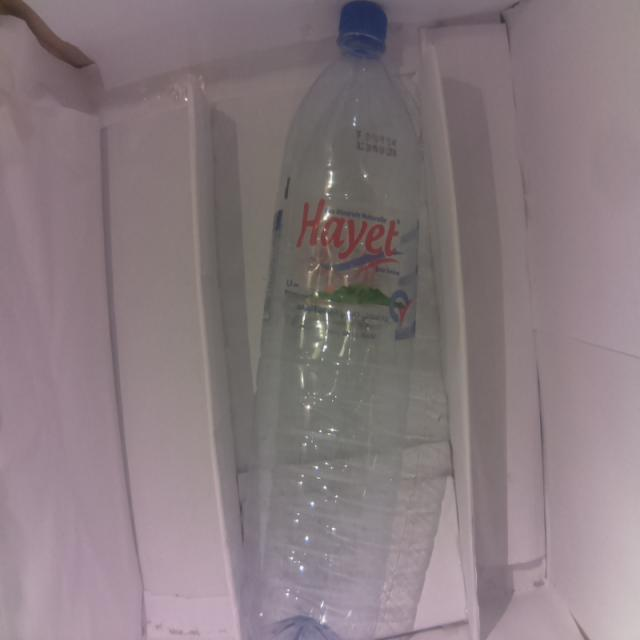Anorganik: (247, 0, 410, 640)
